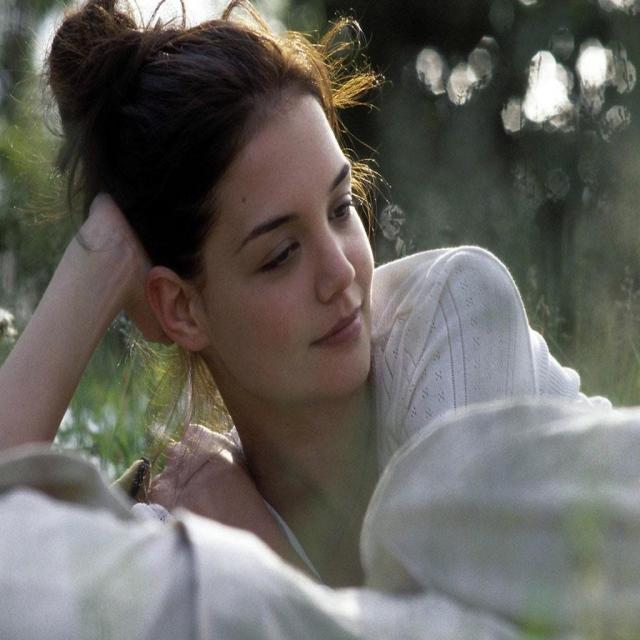no-earmuff: (146, 265, 208, 350)
